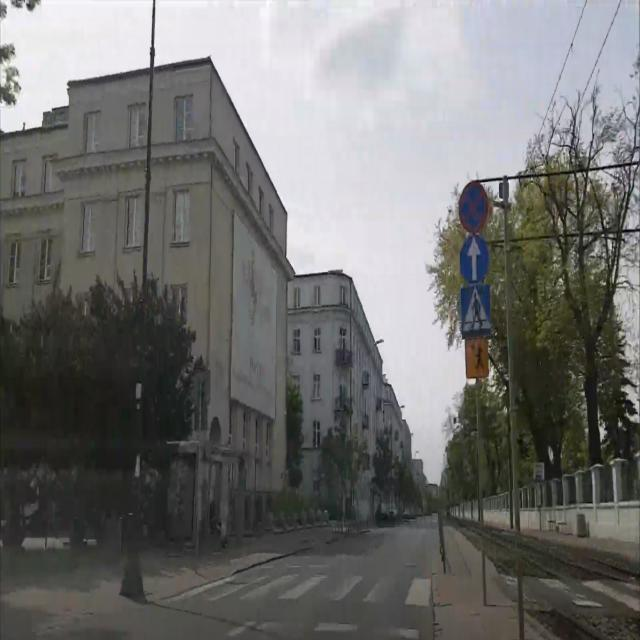Przejscie dla pieszych: (460, 286, 492, 336)
Zakaz zatrzymywania sie: (458, 178, 488, 234)
